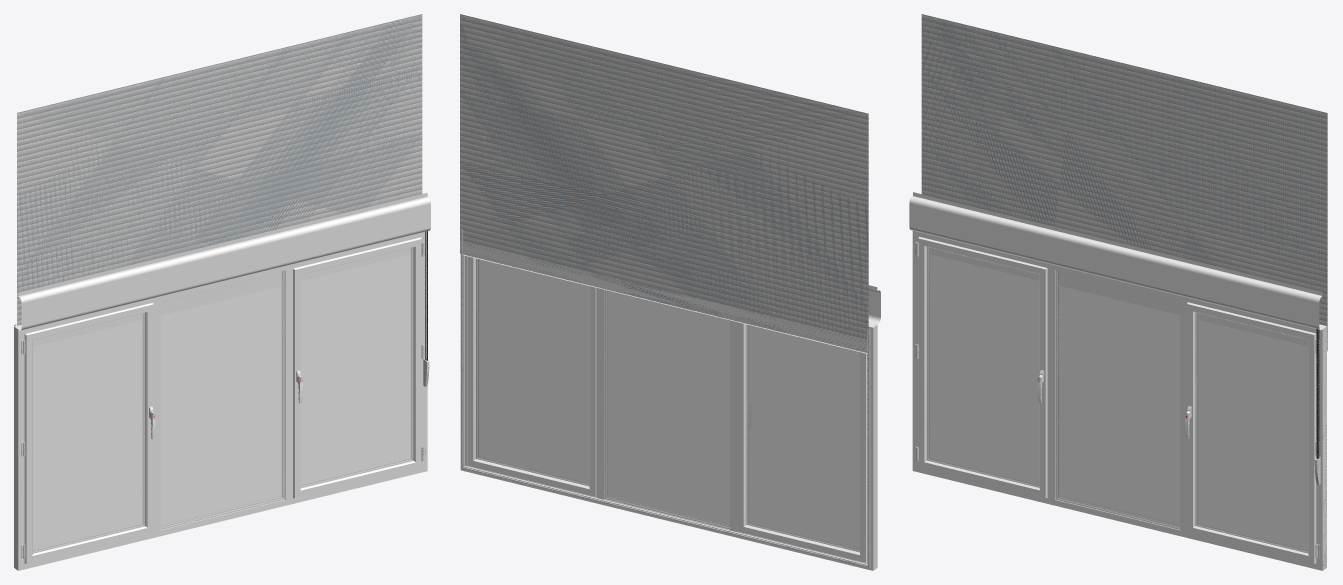
Rendered from Window2_220x143x[3 casement_blinds].dae.
3 renders of one model, left to right at view 1: azimuth 30°, elevation 25°; view 2: azimuth 150°, elevation 25°; view 3: azimuth 330°, elevation 25°, orthographic.
Parts seen in each view (by area): view 1: group_8 (×4), group_19, group_10 (×3), group_22, group_9 (×4); view 2: group_19 (×2), group_8 (×4), group_10 (×4), group_9 (×4), group_21 (×2); view 3: group_8 (×4), group_19, group_10 (×5), group_22, group_9 (×4).
Part boxes in pixels (x1,y1,x2,y2): group_8 (×4): (32, 247, 413, 553); group_19: (17, 14, 422, 325); group_10 (×3): (14, 231, 427, 570); group_22: (18, 192, 430, 330); group_9 (×4): (24, 237, 421, 563); group_19 (×2): (459, 14, 868, 353); group_8 (×4): (476, 258, 859, 552); group_10 (×4): (460, 256, 877, 570); group_9 (×4): (467, 256, 866, 562); group_21 (×2): (460, 228, 873, 570); group_8 (×4): (927, 247, 1308, 553); group_19: (921, 14, 1327, 337); group_10 (×5): (912, 230, 1326, 570); group_22: (909, 192, 1322, 329); group_9 (×4): (918, 236, 1316, 563).
Size of the model in its own units: 86.63 by 4.17 by 91.71.
12 materials, 1 textured.
